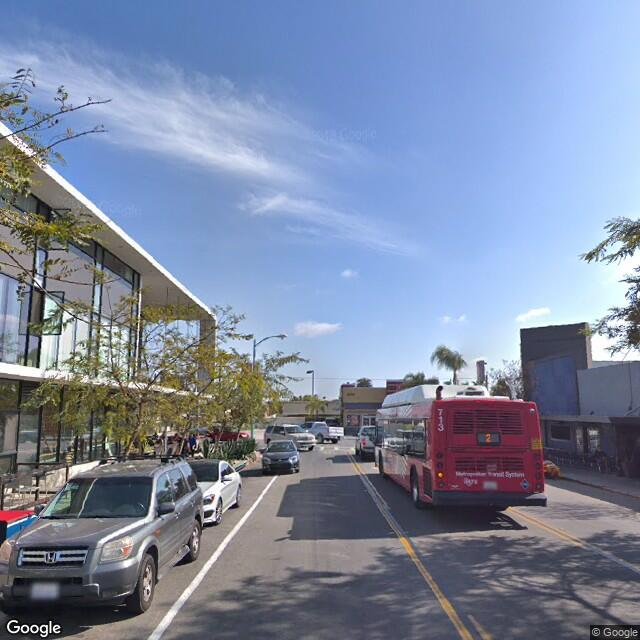road line: (402, 535, 496, 640)
